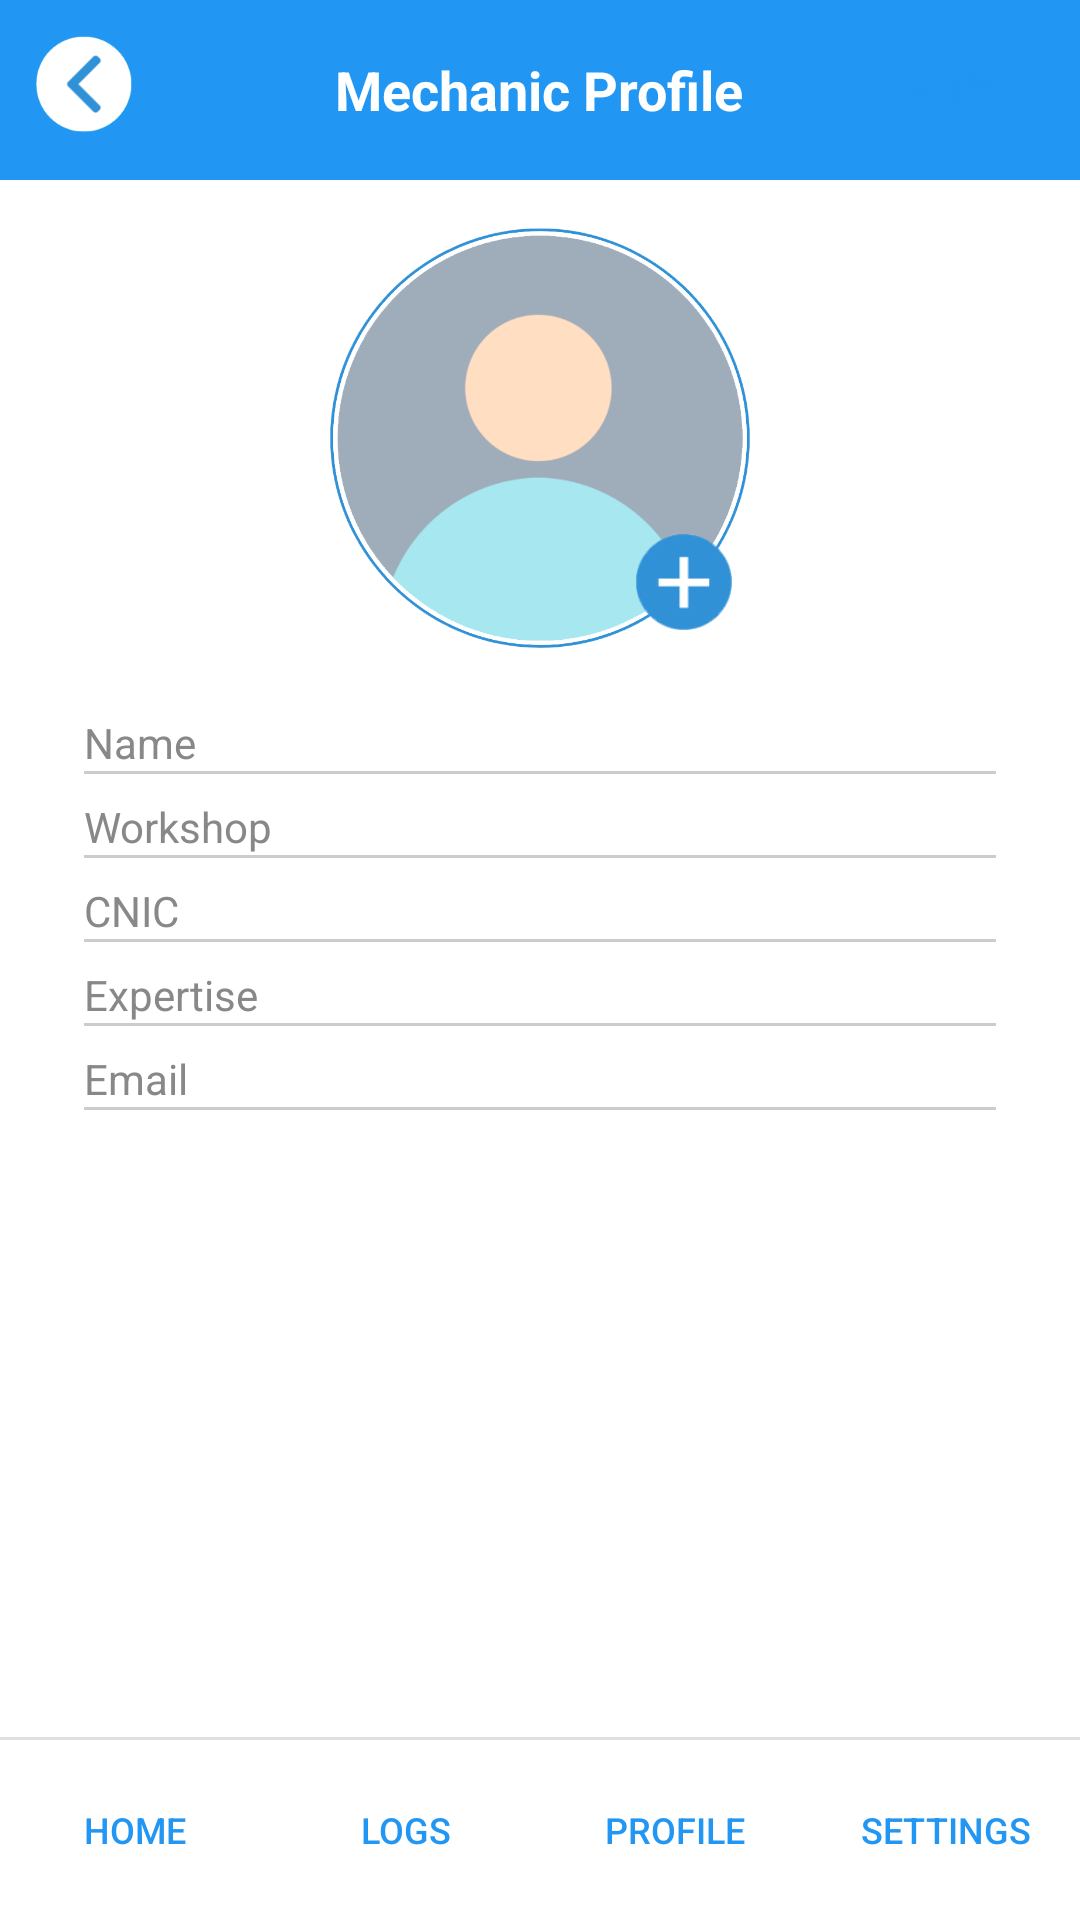

Where to tap for icons on this 1080 x 1920 app screen, as (x,y):
back arrow: (84,84)
plux: (684,582)
